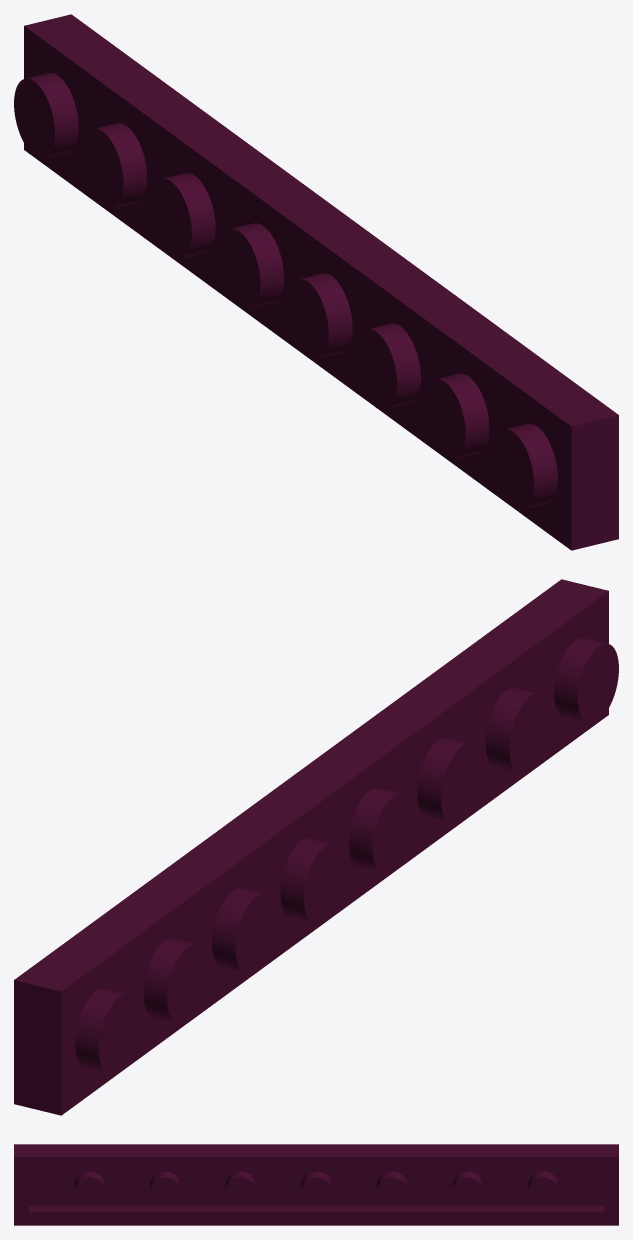
The model's file is plate1*8_magenta.obj.
3 renders of one model, top to bottom at view 1: azimuth 30°, elevation 25°; view 2: azimuth 150°, elevation 25°; view 3: azimuth 270°, elevation 25°, orthographic. The views are drawn at different scales.
Size of the model in its own units: 12 by 20 by 160.
